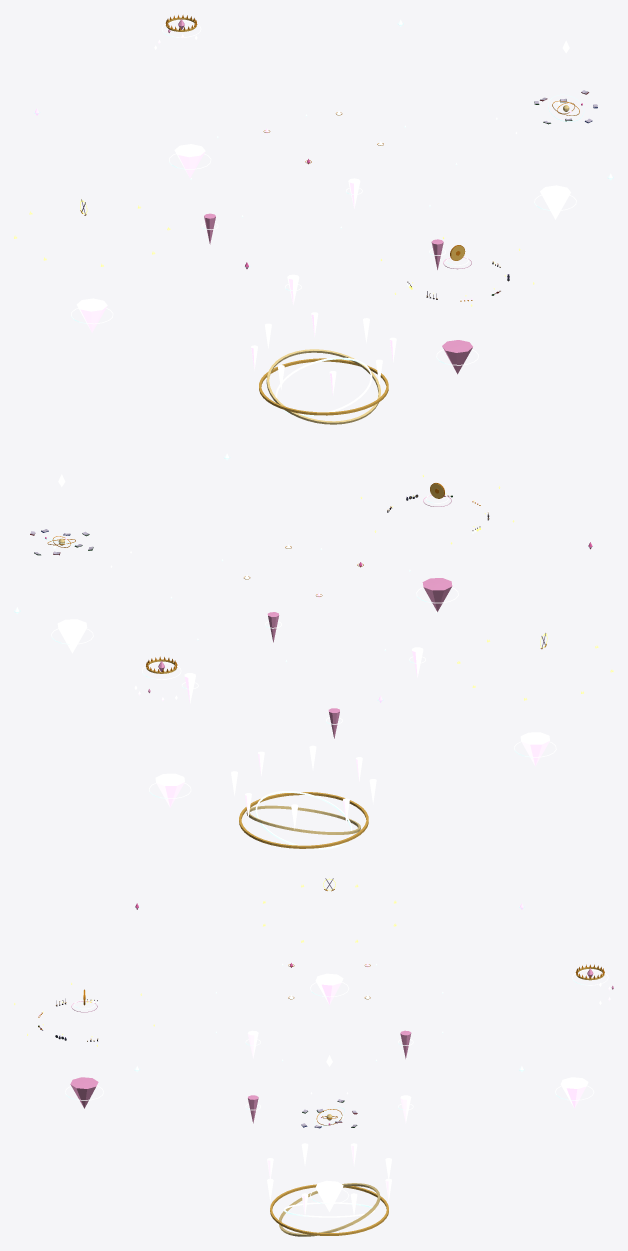
File: crossroads_animated.fbx
3 renders of one model, top to bottom at view 1: azimuth 30°, elevation 25°; view 2: azimuth 150°, elevation 25°; view 3: azimuth 270°, elevation 25°, orthographic. The views are drawn at different scales.
Visible parts, largest first — view 1: anim_gyro_ring_2, anim_gyro_ring_1, anim_keel_core_8, anim_keel_core_6, anim_keel_core_7, anim_keel_core_5; view 2: anim_gyro_ring_1, anim_gyro_ring_2, anim_keel_core_5, anim_keel_core_6, anim_keel_core_8, anim_keel_core_7; view 3: anim_gyro_ring_1, anim_gyro_ring_2, anim_keel_core_6, anim_keel_core_7, anim_keel_core_5, anim_keel_core_8.
Part boxes in pixels (x1=…): anim_gyro_ring_2: x1=266, y1=349, x2=380, y2=424; anim_gyro_ring_1: x1=259, y1=358, x2=388, y2=415; anim_keel_core_8: x1=76, y1=298, x2=107, y2=332; anim_keel_core_6: x1=540, y1=185, x2=570, y2=219; anim_keel_core_7: x1=442, y1=340, x2=472, y2=374; anim_keel_core_5: x1=174, y1=144, x2=205, y2=178; anim_gyro_ring_1: x1=239, y1=792, x2=368, y2=848; anim_gyro_ring_2: x1=246, y1=805, x2=360, y2=834; anim_keel_core_5: x1=155, y1=773, x2=184, y2=807; anim_keel_core_6: x1=57, y1=619, x2=87, y2=653; anim_keel_core_8: x1=520, y1=732, x2=549, y2=766; anim_keel_core_7: x1=422, y1=578, x2=452, y2=611; anim_gyro_ring_1: x1=270, y1=1184, x2=388, y2=1235; anim_gyro_ring_2: x1=279, y1=1183, x2=380, y2=1236; anim_keel_core_6: x1=315, y1=1180, x2=343, y2=1211; anim_keel_core_7: x1=70, y1=1077, x2=98, y2=1108; anim_keel_core_5: x1=560, y1=1077, x2=588, y2=1108; anim_keel_core_8: x1=315, y1=973, x2=343, y2=1004.
Bounding box in the file's own units: 531 × 273 × 534.
